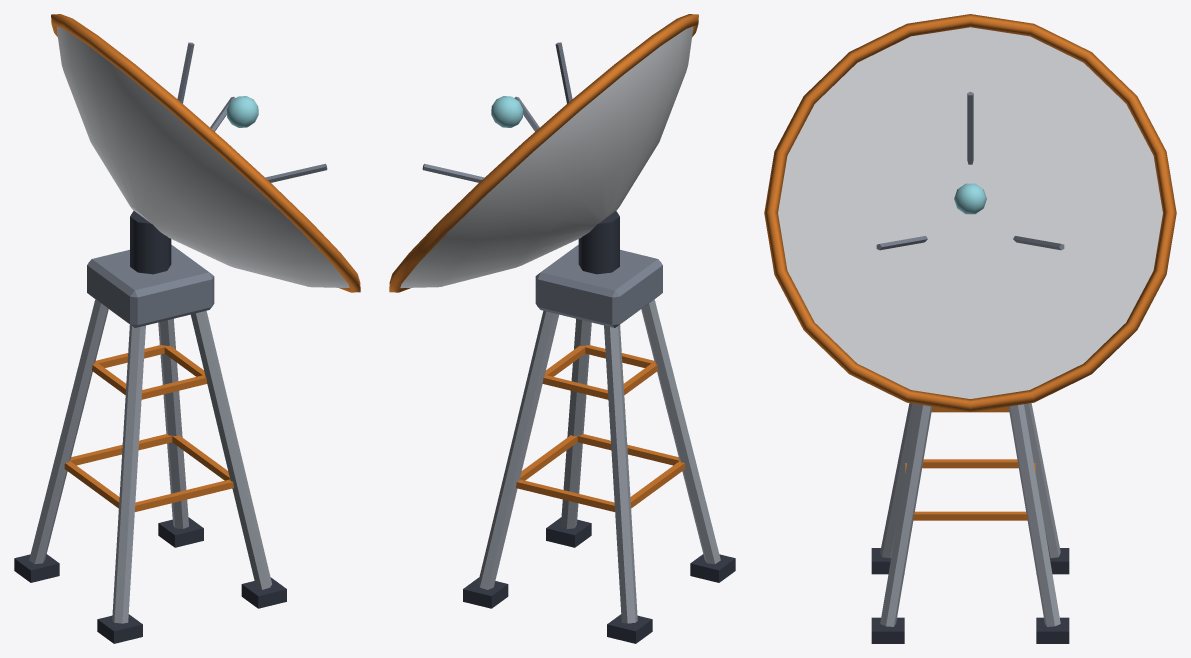
File: space-deco1.glb
3 renders of one model, left to right at view 1: azimuth 30°, elevation 25°; view 2: azimuth 150°, elevation 25°; view 3: azimuth 270°, elevation 25°, orthographic.
Parts seen in each view (by area): view 1: space-deco1; view 2: space-deco1; view 3: space-deco1.
Part boxes in pixels (<box>): space-deco1: <box>14,14,360,643</box>; space-deco1: <box>389,14,735,643</box>; space-deco1: <box>764,14,1176,643</box>.
Size of the model in its own units: 2.15 by 4.48 by 3.
